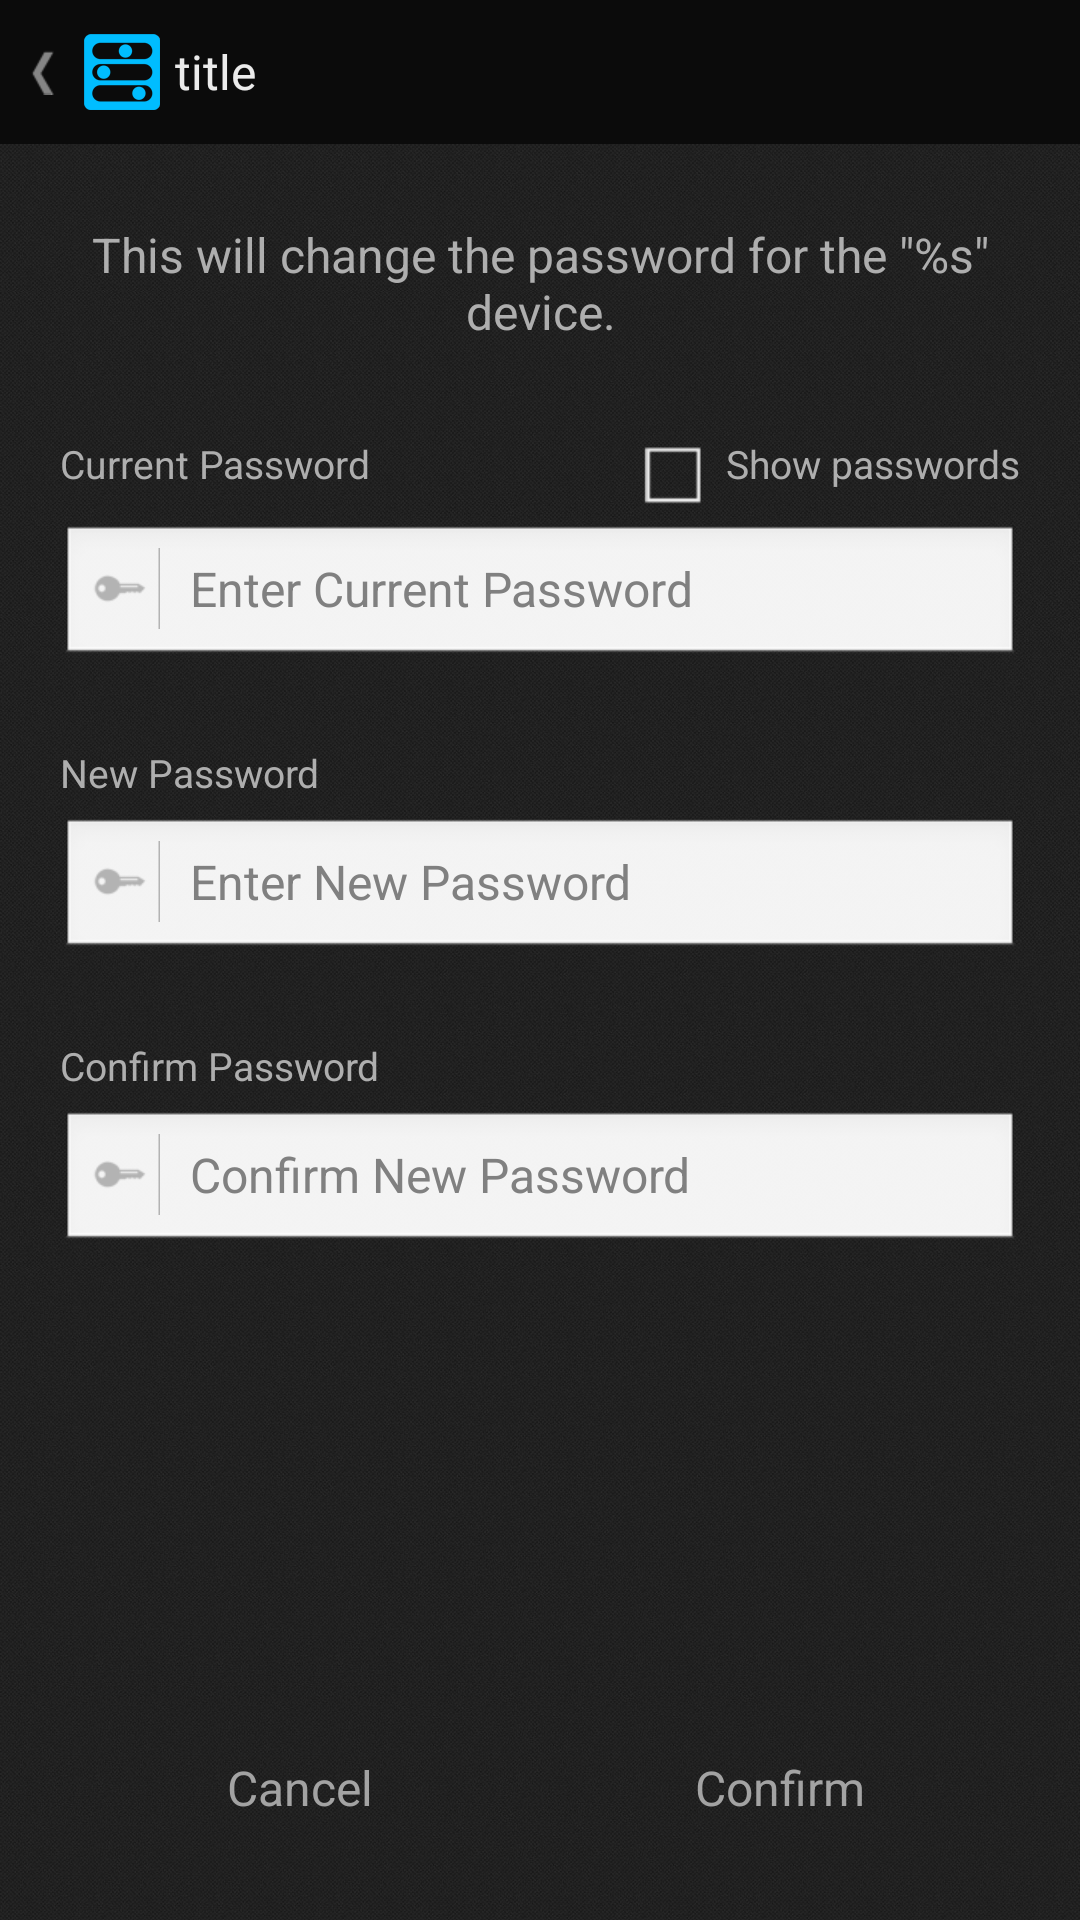

Icons on this 1080px×1920px Android screen, each with its box as [x1=x1, y1=y1, x2=x2, y2=y2]:
back: [x1=32, y1=52, x2=54, y2=95]
